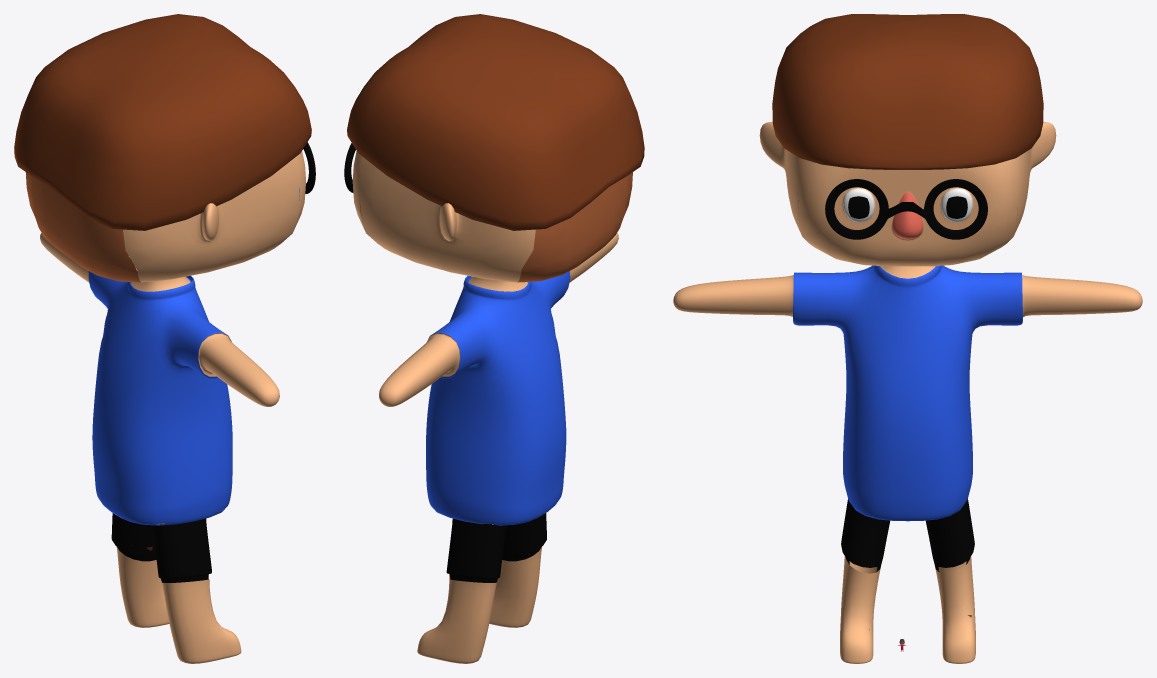
File: PACO2.fbx
3 views of the same model, side by side, from view 1: azimuth 30°, elevation 25°; view 2: azimuth 150°, elevation 25°; view 3: azimuth 270°, elevation 25° (orthographic). The views are drawn at different scales.
Visible parts, largest first — view 1: pCube4; view 2: pCube4; view 3: pCube4.
Part boxes in pixels (x1,y1,x2,y2): pCube4: [14, 14, 315, 663]; pCube4: [344, 14, 644, 663]; pCube4: [673, 14, 1142, 663].
Size of the model in its own units: 85.72 by 211 by 145.
